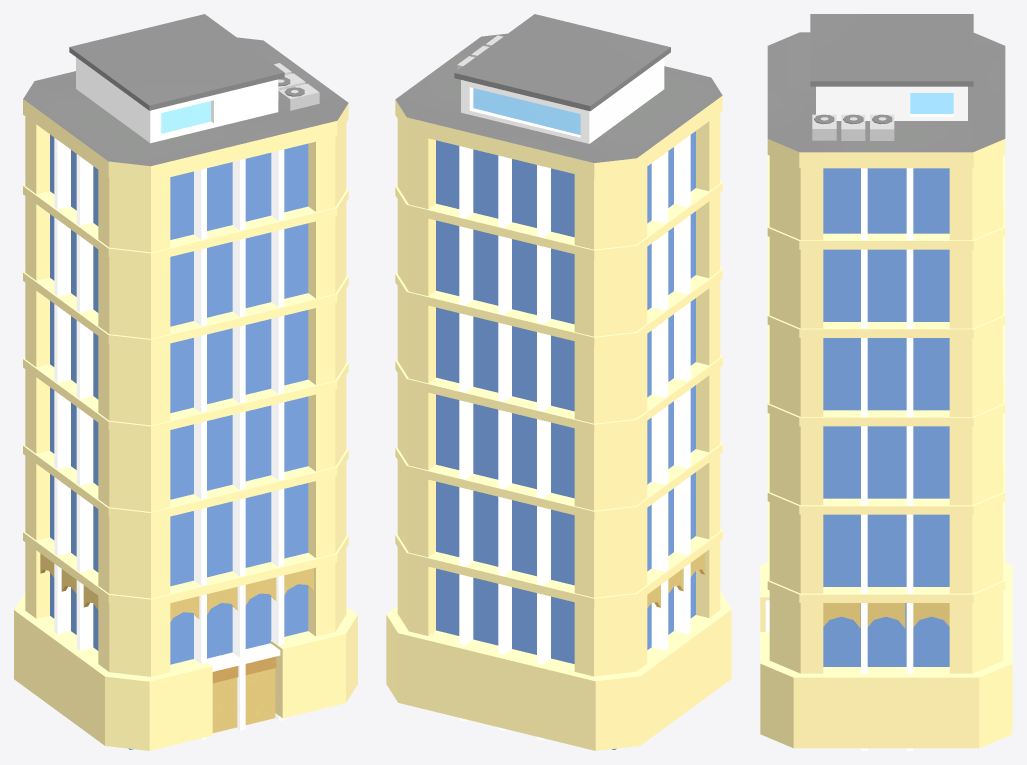
Rendered from tile_for_home_1x1.006 (5).glb.
3 views of the same model, side by side, from view 1: azimuth 30°, elevation 25°; view 2: azimuth 150°, elevation 25°; view 3: azimuth 270°, elevation 25° (orthographic). The views are drawn at different scales.
Parts seen in each view (by area): view 1: apartment.001; view 2: apartment.001; view 3: apartment.001.
Boxes of the visible parts, x1,y1,x2,y2 form: apartment.001: (14, 14, 357, 750); apartment.001: (386, 14, 731, 750); apartment.001: (760, 14, 1012, 750).
Bounding box in the file's own units: 7.58 × 17.98 × 6.41.
Materials: 1 (1 with a texture image).
